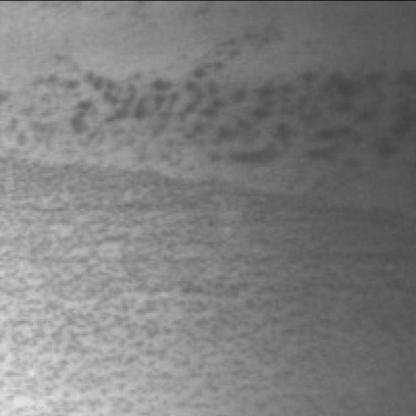pitted_surface: (4, 177, 416, 414), (54, 48, 416, 171)
